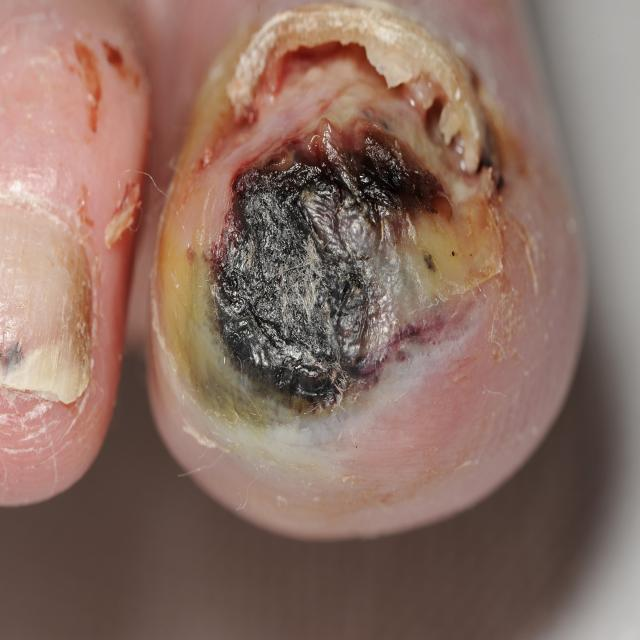wound: (145, 1, 587, 540)
